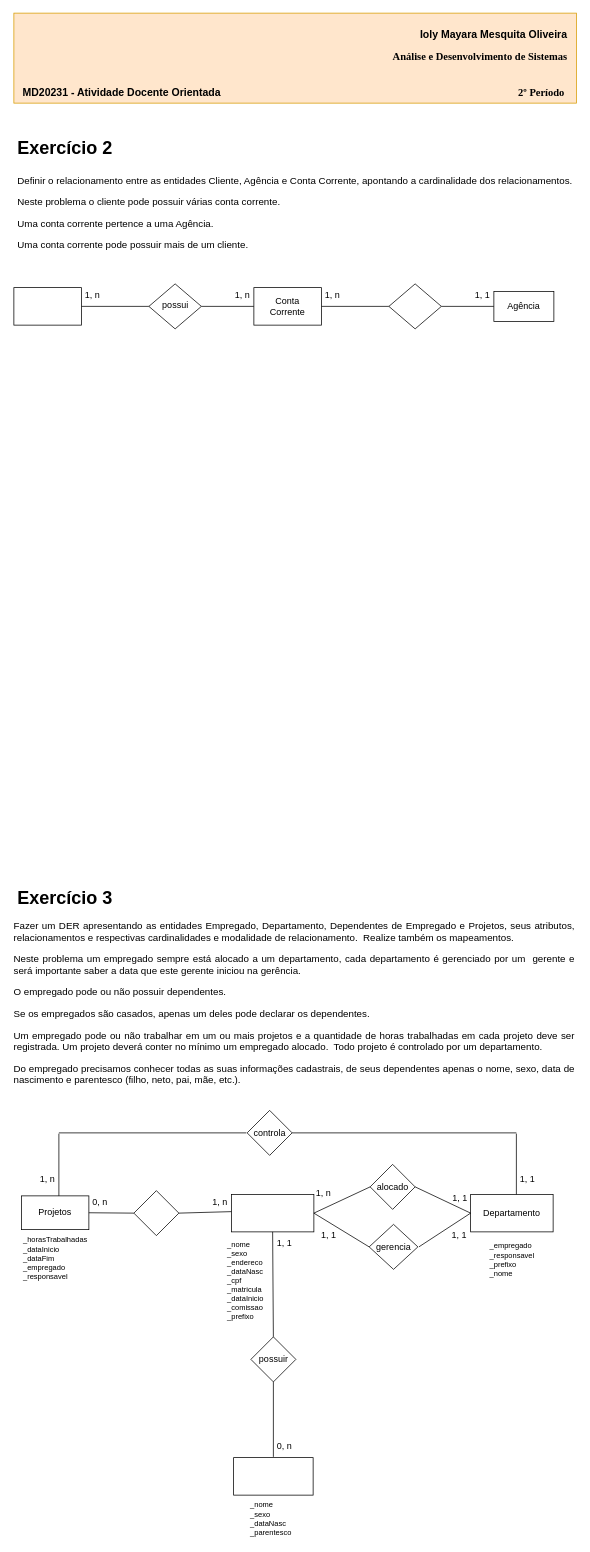
Image size: 590x1552. Some labels were removed from this diagram. The centre of each missing label's shape, as x and y in pixels:
"Cliente" belongs at [47,306].
"Dependentes" belongs at [273,1476].
"Empregado" belongs at [272,1213].
"pertence" belongs at [414,306].
"trabalhar" belongs at [156,1213].
